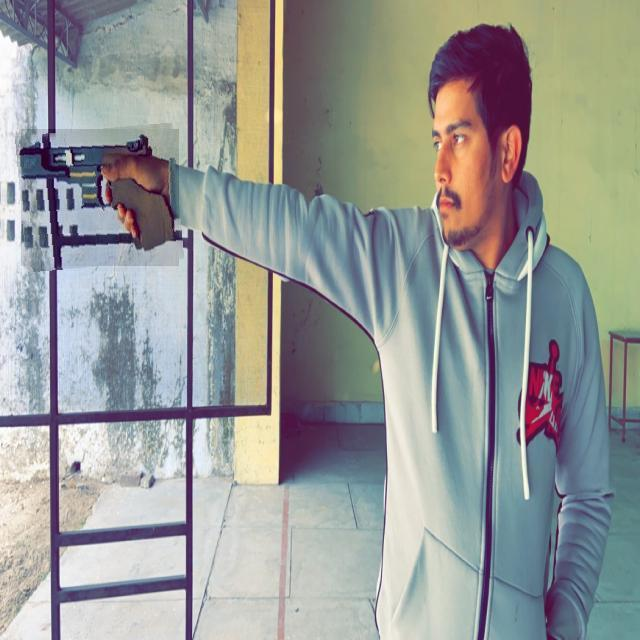handgun: (18, 126, 182, 270)
